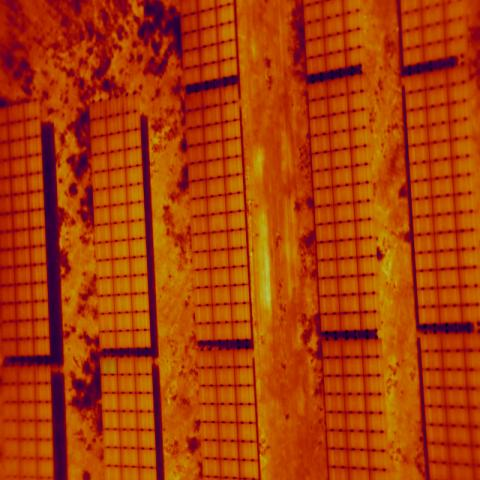fault: (101, 358, 118, 375)
